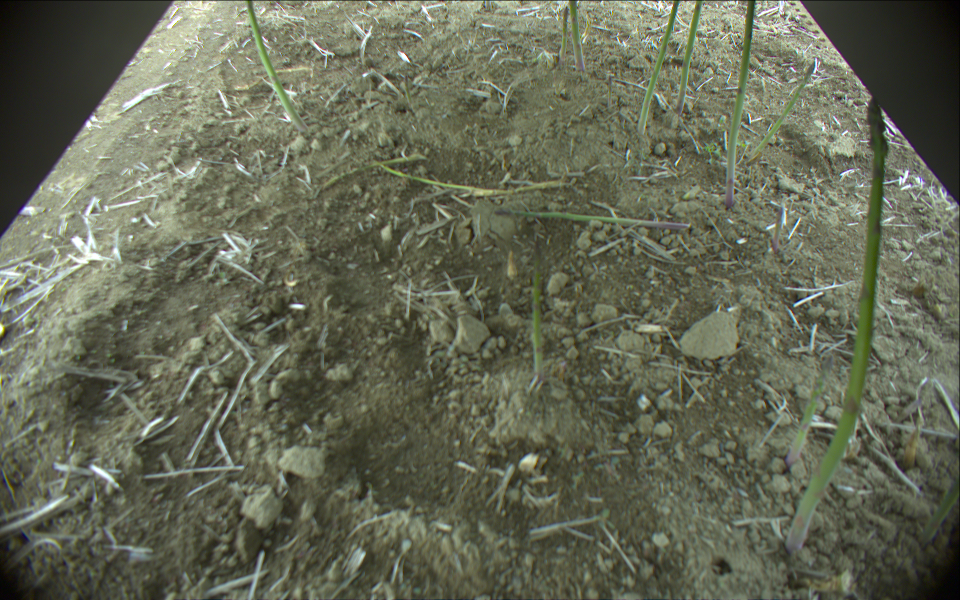aspa: (785, 99, 886, 555), (243, 1, 308, 132), (746, 60, 816, 163), (726, 1, 756, 208), (636, 1, 682, 135), (381, 163, 570, 195), (785, 353, 836, 464), (324, 149, 428, 195), (495, 210, 689, 231), (676, 1, 701, 121), (526, 237, 543, 387), (568, 1, 588, 74), (559, 4, 571, 63)
